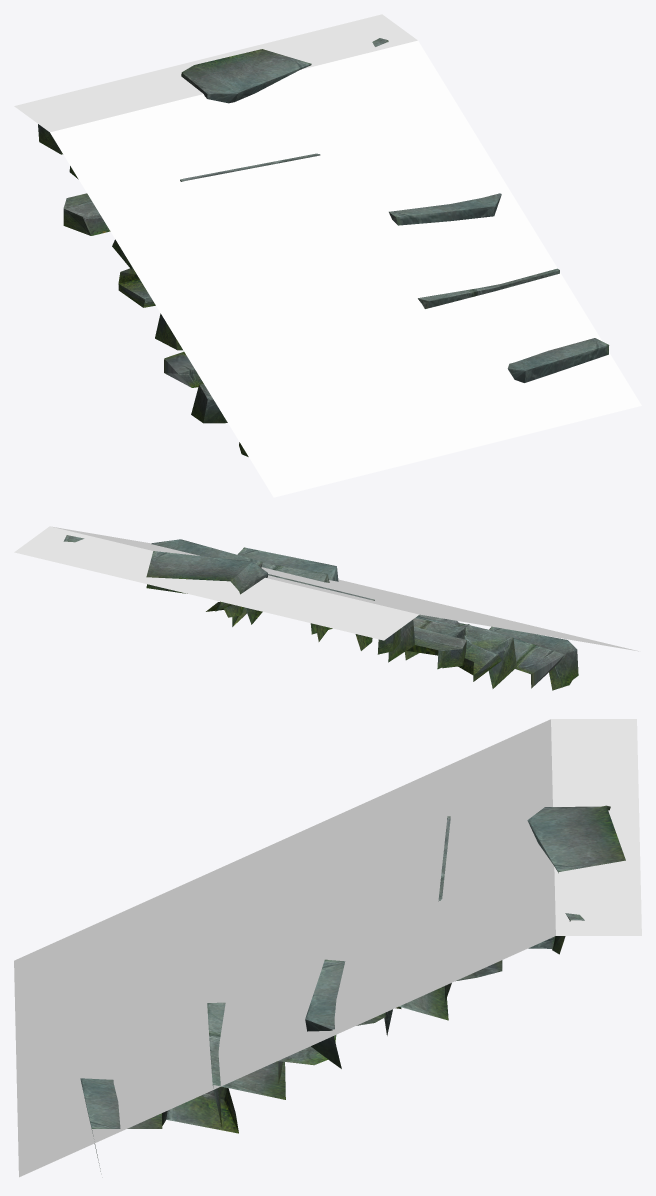
The model's file is SC001Wguodao_20.FBX.
3 renders of one model, top to bottom at view 1: azimuth 30°, elevation 25°; view 2: azimuth 150°, elevation 25°; view 3: azimuth 270°, elevation 25°, orthographic. The views are drawn at different scales.
Visible parts, largest first — view 1: SC001Wguodao_20_lujing, SC001Wguodao_20; view 2: SC001Wguodao_20_lujing, SC001Wguodao_20; view 3: SC001Wguodao_20_lujing, SC001Wguodao_20.
Part boxes in pixels (box(x1,y1,x2,y2)): SC001Wguodao_20_lujing: box(14, 14, 641, 497); SC001Wguodao_20: box(38, 38, 609, 456); SC001Wguodao_20_lujing: box(14, 526, 638, 651); SC001Wguodao_20: box(63, 535, 578, 690); SC001Wguodao_20_lujing: box(14, 719, 641, 1177); SC001Wguodao_20: box(80, 805, 625, 1171).
Size of the model in its own units: 2.53 by 1.33 by 2.94.
